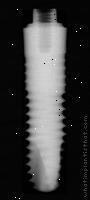DENTSPLY: (20, 10, 67, 194)
